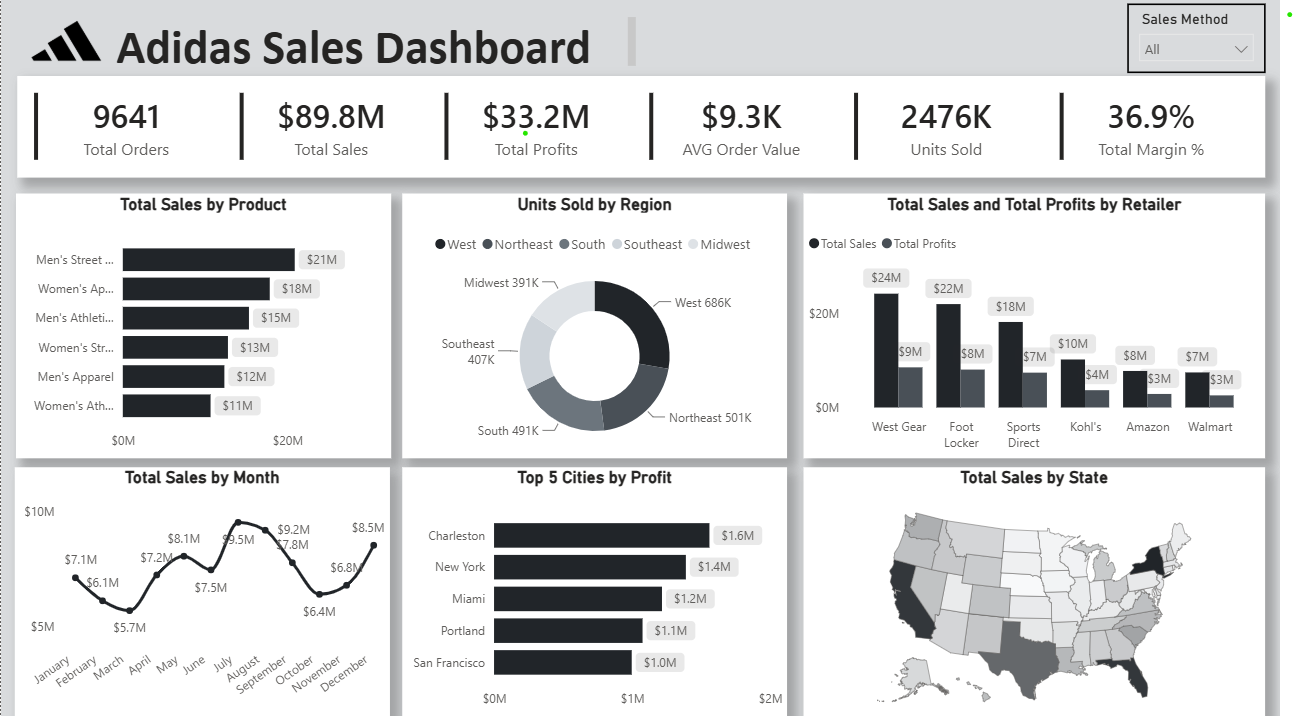

Layout of this report page (visuals, bound fields, positions):
{"tool":"powerbi","page":{"name":"Page 1","canvas":[1280,720],"ordinal":0},"visuals":[{"type":"cardVisual","fields":{"Data":["DAX_Measures (2).Total Orders","DAX_Measures (2).Total Sales","DAX_Measures (2).Total Profits","DAX_Measures (2).AVG Order Value","DAX_Measures (2).Units Sold","DAX_Measures (2).Total Margin %"]},"box":[15.9,79.5,1248.3,101.7],"z":0},{"type":"clusteredBarChart","fields":{"Category":["Adidas Sales.Product"],"Y":["DAX_Measures (2).Total Sales"]},"box":[14.7,196.9,375,265],"z":1000},{"type":"donutChart","fields":{"Category":["Adidas Sales.Region"],"Y":["DAX_Measures (2).Units Sold"]},"box":[401.1,196.9,385,265],"z":2000},{"type":"clusteredColumnChart","fields":{"Category":["Adidas Sales.Retailer"],"Y":["DAX_Measures (2).Total Sales","DAX_Measures (2).Total Profits"]},"box":[802.2,196.9,461.7,265],"z":3000},{"type":"lineChart","fields":{"Category":["Adidas Sales.Invoice Date.Variation.Date Hierarchy.Year","Adidas Sales.Invoice Date.Variation.Date Hierarchy.Quarter","Adidas Sales.Invoice Date.Variation.Date Hierarchy.Month","Adidas Sales.Invoice Date.Variation.Date Hierarchy.Day"],"Y":["DAX_Measures (2).Total Sales"]},"box":[13.5,470.8,375,250],"z":4000},{"type":"clusteredBarChart","title":"Top 5 Cities by Profit","fields":{"Category":["Adidas Sales.City"],"Y":["DAX_Measures (2).Total Profits"]},"box":[401.1,470.8,385,250],"z":5000},{"type":"shapeMap","fields":{"Category":["Adidas Sales.State"],"Value":["DAX_Measures (2).Total Sales"]},"box":[802.2,470.8,461.7,250],"z":6000},{"type":"textbox","box":[110.1,15.9,529.5,63.6],"z":7000},{"type":"image","box":[13.5,9.8,102.7,69.7],"z":8000},{"type":"slicer","fields":{"Values":["Adidas Sales.Sales Method"]},"box":[1126.2,7.3,138.2,69.7],"z":9000}]}

Visuals, with their boxes in screenshot pixels (x1, y1, x2, y2), scaled from the page's 1280x720 canvas onto the 1293x716 screenshot:
cardVisual - DAX_Measures (2).Total Orders x DAX_Measures (2).Total Sales: 16:79:1277:180
clusteredBarChart - Adidas Sales.Product x DAX_Measures (2).Total Sales: 15:196:394:459
donutChart - Adidas Sales.Region x DAX_Measures (2).Units Sold: 405:196:794:459
clusteredColumnChart - Adidas Sales.Retailer x DAX_Measures (2).Total Sales: 810:196:1277:459
lineChart - Adidas Sales.Invoice Date.Variation.Date Hierarchy.Year x Adidas Sales.Invoice Date.Variation.Date Hierarchy.Quarter: 14:468:392:715
"Top 5 Cities by Profit" clusteredBarChart: 405:468:794:715
shapeMap - Adidas Sales.State x DAX_Measures (2).Total Sales: 810:468:1277:715
textbox: 111:16:646:79
image: 14:10:117:79
slicer - Adidas Sales.Sales Method: 1138:7:1277:77
